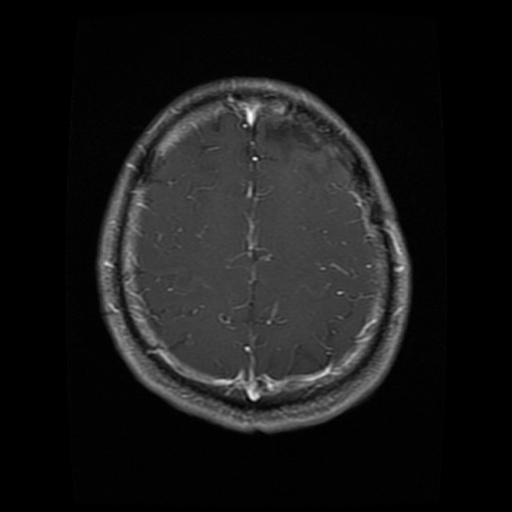glioma: (264, 110, 355, 187)
